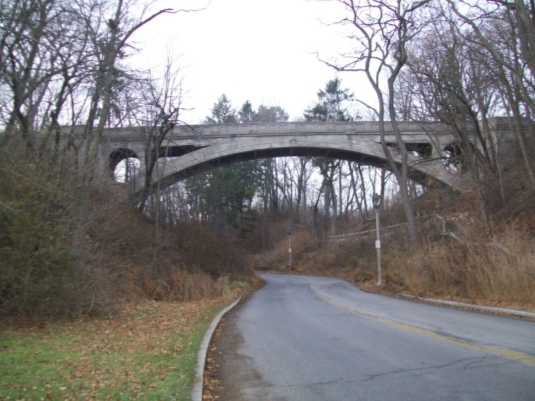bridge: (2, 117, 535, 211)
